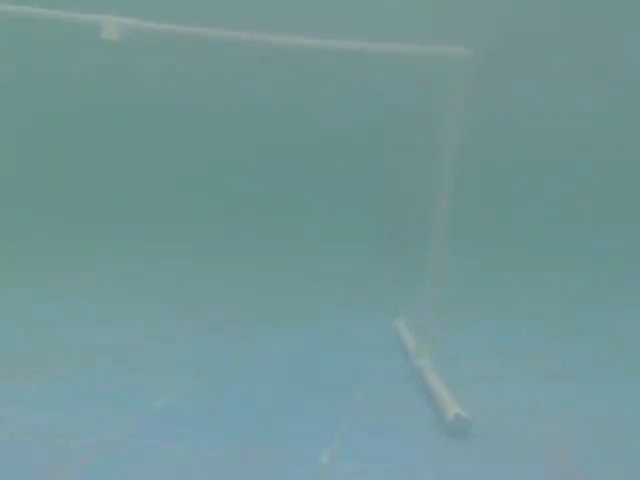gate: (7, 3, 545, 480)
